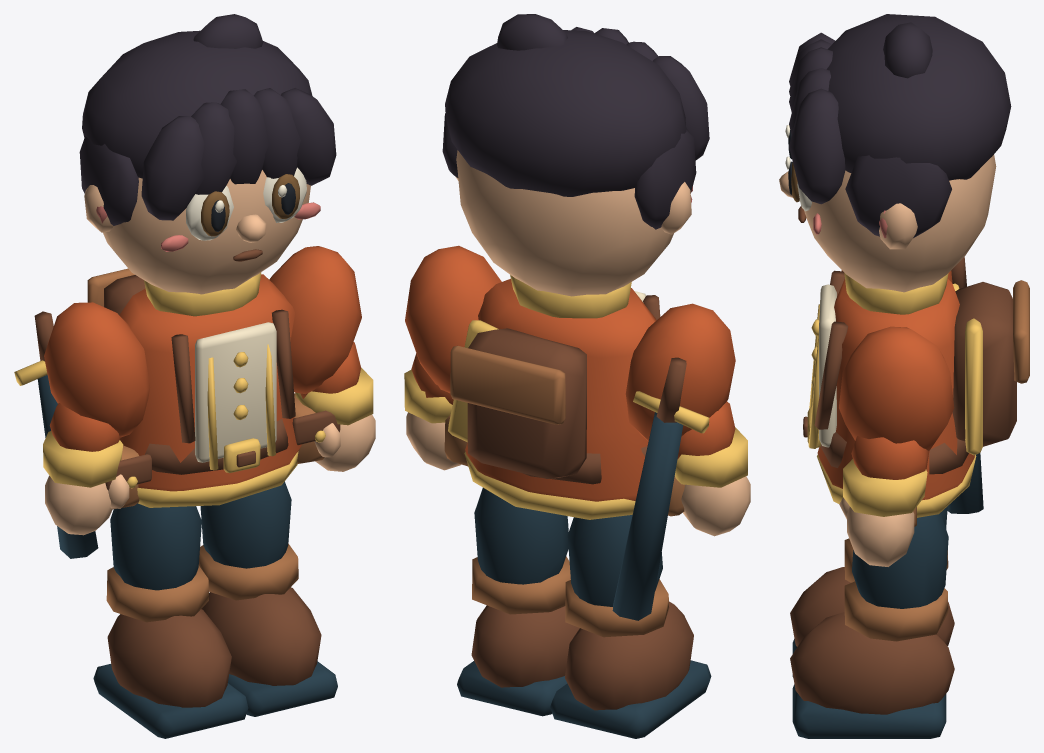
Rendered from ren.glb.
3 renders of one model, left to right at view 1: azimuth 30°, elevation 25°; view 2: azimuth 150°, elevation 25°; view 3: azimuth 270°, elevation 25°, orthographic. The views are drawn at different scales.
Visible parts, largest first — view 1: Head_mesh, Torso_mesh, LegLeft_mesh, LegRight_mesh, ArmLeft_mesh, ArmRight_mesh; view 2: Head_mesh, Torso_mesh, LegLeft_mesh, LegRight_mesh, ArmLeft_mesh, ArmRight_mesh; view 3: Head_mesh, Torso_mesh, LegRight_mesh, ArmRight_mesh, LegLeft_mesh.
Boxes of the visible parts, x1,y1,x2,y2 form: Head_mesh: [79, 14, 336, 294]; Torso_mesh: [14, 268, 340, 558]; LegLeft_mesh: [93, 503, 248, 738]; LegRight_mesh: [198, 481, 337, 716]; ArmLeft_mesh: [43, 302, 150, 535]; ArmRight_mesh: [269, 246, 375, 471]; Head_mesh: [442, 14, 709, 296]; Torso_mesh: [444, 275, 709, 620]; LegLeft_mesh: [550, 515, 711, 738]; LegRight_mesh: [457, 487, 579, 716]; ArmLeft_mesh: [625, 303, 750, 536]; ArmRight_mesh: [404, 245, 501, 470]; Head_mesh: [779, 14, 1011, 292]; Torso_mesh: [803, 257, 1029, 526]; LegRight_mesh: [790, 513, 954, 738]; ArmRight_mesh: [839, 326, 954, 566]; LegLeft_mesh: [790, 506, 954, 677].
Bounding box in the file's own units: 1.04 × 2.03 × 0.6667.
